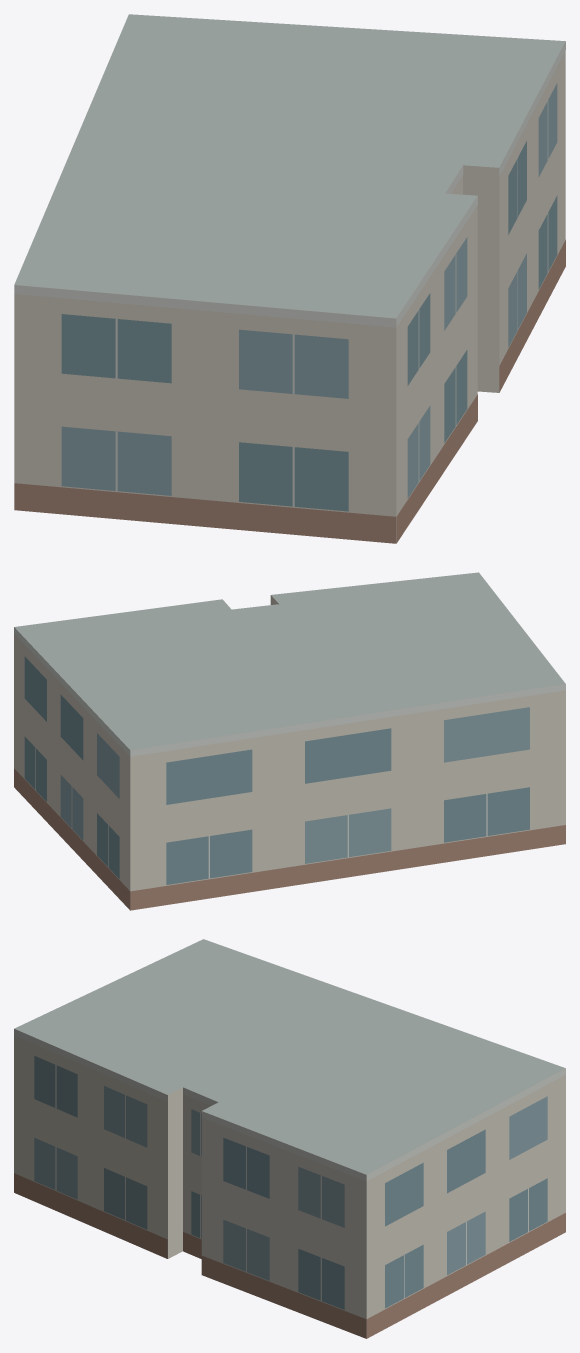
File: survey-upis-32893191.glb
3 renders of one model, top to bottom at view 1: azimuth 30°, elevation 25°; view 2: azimuth 150°, elevation 25°; view 3: azimuth 270°, elevation 25°, orthographic. The views are drawn at different scales.
Visible parts, largest first — view 1: survey-upis-32893191.tmp; view 2: survey-upis-32893191.tmp; view 3: survey-upis-32893191.tmp.
Boxes of the visible parts, bbox=[...] form: survey-upis-32893191.tmp: bbox=[14, 14, 565, 543]; survey-upis-32893191.tmp: bbox=[14, 572, 565, 910]; survey-upis-32893191.tmp: bbox=[14, 939, 565, 1338].
Size of the model in its own units: 18.82 by 6.1 by 18.61.
